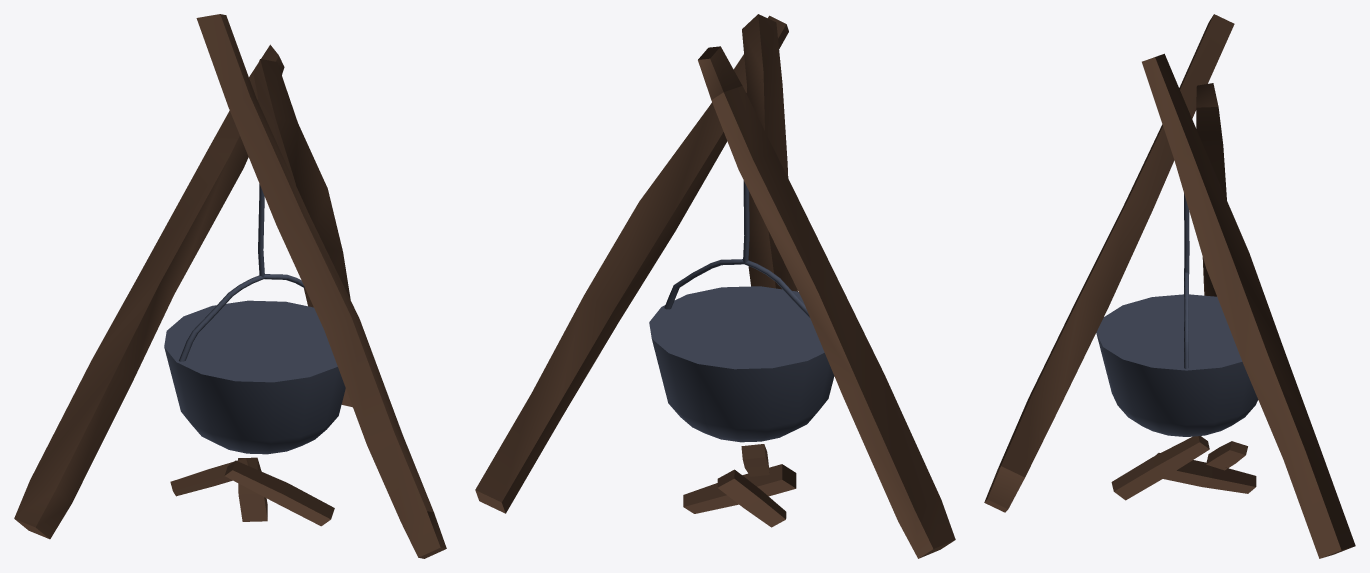
Rendered from campfire.glb.
3 views of the same model, side by side, from view 1: azimuth 30°, elevation 25°; view 2: azimuth 150°, elevation 25°; view 3: azimuth 270°, elevation 25° (orthographic). The views are drawn at different scales.
Parts seen in each view (by area): view 1: Cylinder.037_604; view 2: Cylinder.037_604; view 3: Cylinder.037_604.
Boxes of the visible parts, x1=… form: Cylinder.037_604: x1=14, y1=14, x2=446, y2=558; Cylinder.037_604: x1=475, y1=14, x2=955, y2=558; Cylinder.037_604: x1=984, y1=14, x2=1355, y2=558.
Bounding box in the file's own units: 8.59 × 9.79 × 7.31.
